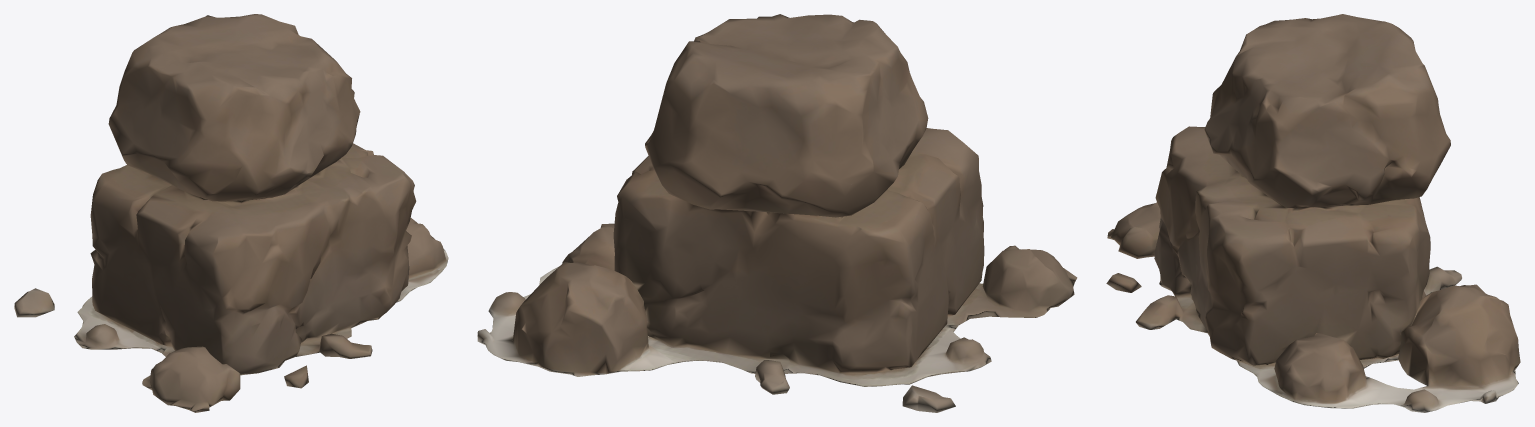
Rendered from rock+pile+3d+model (1).glb.
3 views of the same model, side by side, from view 1: azimuth 30°, elevation 25°; view 2: azimuth 150°, elevation 25°; view 3: azimuth 270°, elevation 25° (orthographic). The views are drawn at different scales.
Parts seen in each view (by area): view 1: tripo_node_7bd76059-40c1-40ae-b68a-80bf402ccd61; view 2: tripo_node_7bd76059-40c1-40ae-b68a-80bf402ccd61; view 3: tripo_node_7bd76059-40c1-40ae-b68a-80bf402ccd61.
Part boxes in pixels (x1,y1,x2,y2): tripo_node_7bd76059-40c1-40ae-b68a-80bf402ccd61: [14, 14, 448, 412]; tripo_node_7bd76059-40c1-40ae-b68a-80bf402ccd61: [477, 14, 1077, 412]; tripo_node_7bd76059-40c1-40ae-b68a-80bf402ccd61: [1106, 14, 1520, 412].
Bounding box in the file's own units: 1 × 0.6057 × 0.8807.
Materials: 1 (1 with a texture image).
